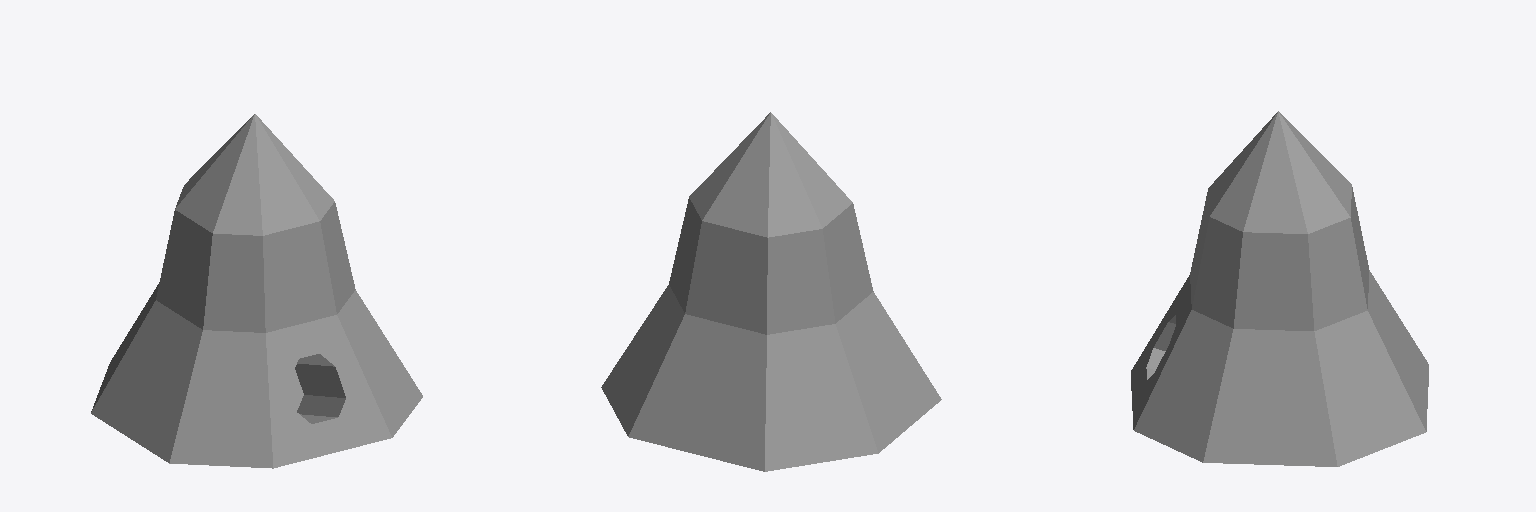
File: torre1c2.obj
3 views of the same model, side by side, from view 1: azimuth 30°, elevation 25°; view 2: azimuth 150°, elevation 25°; view 3: azimuth 270°, elevation 25° (orthographic).
Parts seen in each view (by area): view 1: Cube; view 2: Cube; view 3: Cube.
Boxes of the visible parts, x1,y1,x2,y2 form: Cube: [91, 114, 422, 468]; Cube: [601, 112, 941, 471]; Cube: [1131, 111, 1428, 466].
Size of the model in its own units: 2.04 by 2.03 by 1.91.